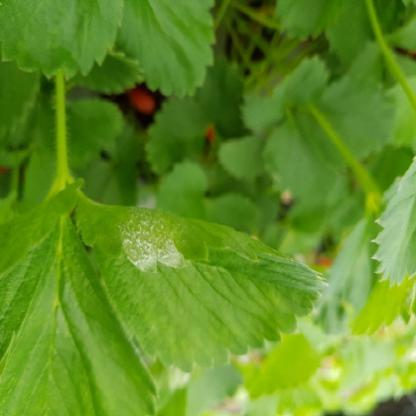Strawberry_Powdery_Mildew_Leaf: (74, 190, 330, 373)
